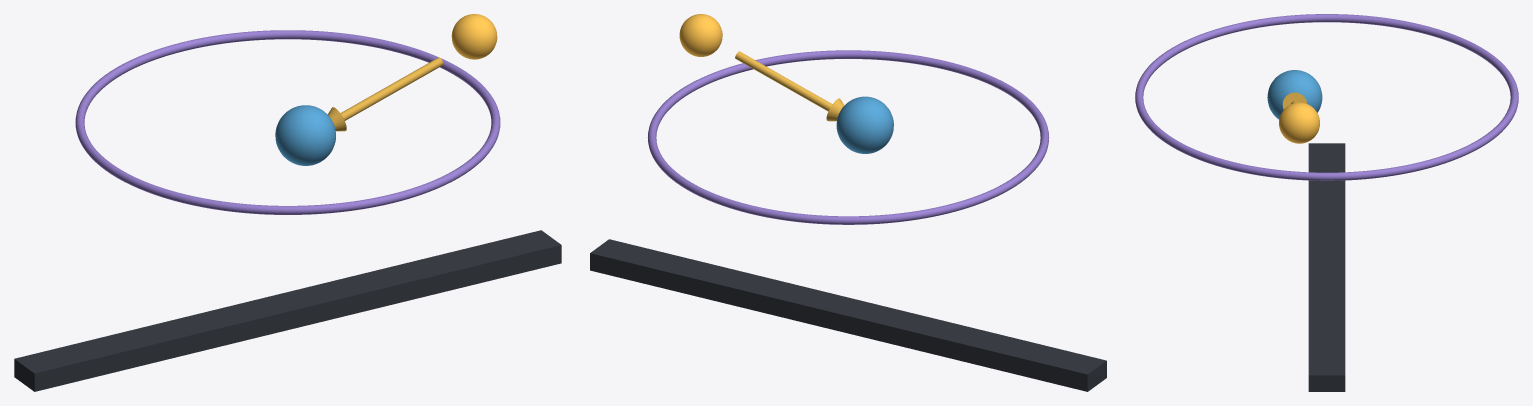
File: space-cosmology-observable-universe.glb
3 renders of one model, left to right at view 1: azimuth 30°, elevation 25°; view 2: azimuth 150°, elevation 25°; view 3: azimuth 270°, elevation 25°, orthographic. The views are drawn at different scales.
Visible parts, largest first — view 1: cosmology-bench, observable-horizon-edge, observer-viewpoint-inside-universe, far-light-lookback-source, light-travel-to-observer-shaft; view 2: cosmology-bench, observable-horizon-edge, observer-viewpoint-inside-universe, far-light-lookback-source, light-travel-to-observer-shaft; view 3: cosmology-bench, observable-horizon-edge, observer-viewpoint-inside-universe, far-light-lookback-source.
Boxes of the visible parts, box(x1,y1,x2,y2) form: cosmology-bench: box(14, 230, 561, 391); observable-horizon-edge: box(75, 30, 500, 214); observer-viewpoint-inside-universe: box(275, 105, 335, 165); far-light-lookback-source: box(451, 14, 497, 59); light-travel-to-observer-shaft: box(340, 57, 443, 120); cosmology-bench: box(590, 239, 1106, 391); observable-horizon-edge: box(647, 50, 1049, 224); observer-viewpoint-inside-universe: box(836, 96, 893, 153); far-light-lookback-source: box(679, 14, 722, 56); light-travel-to-observer-shaft: box(735, 51, 832, 111); cosmology-bench: box(1308, 143, 1345, 391); observable-horizon-edge: box(1135, 14, 1518, 180); observer-viewpoint-inside-universe: box(1267, 70, 1322, 119); far-light-lookback-source: box(1279, 102, 1319, 143).
Size of what is drawn, in the model's own units: 2.4 by 1.19 by 1.68.
